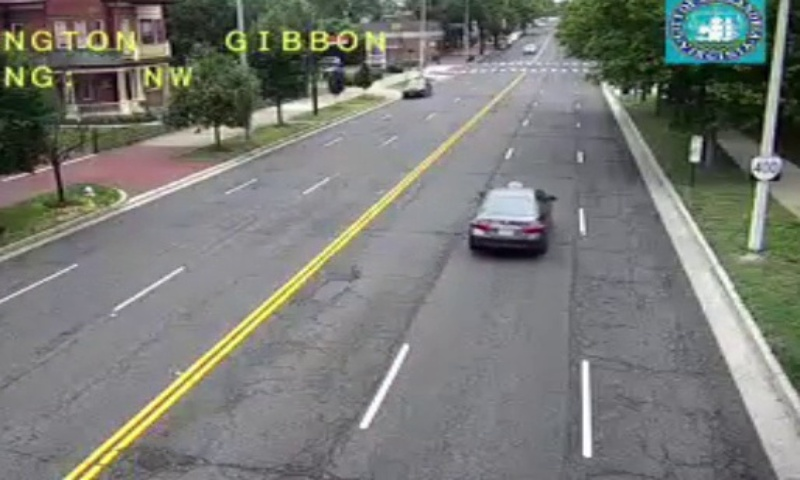car: (466, 186, 547, 248)
